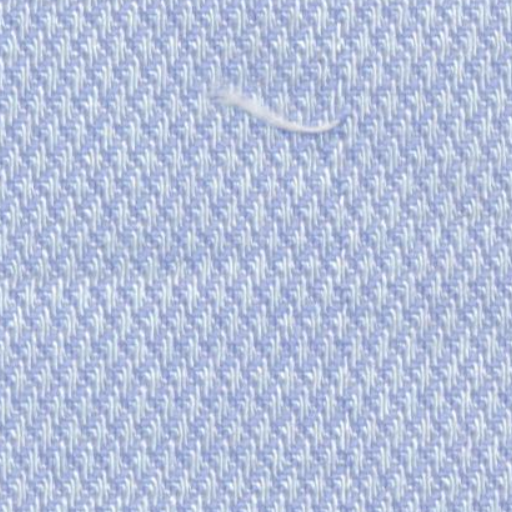DuanSha: (202, 78, 353, 147)
